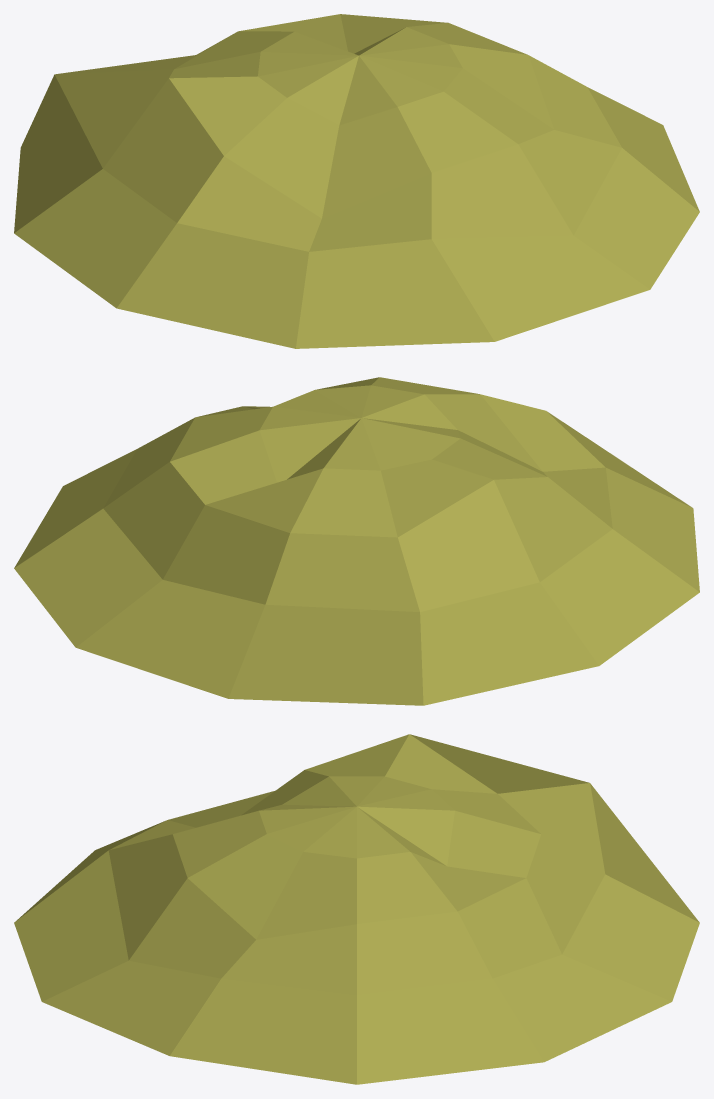
Rendered from SandBump.fbx.
3 views of the same model, one above another, from view 1: azimuth 30°, elevation 25°; view 2: azimuth 150°, elevation 25°; view 3: azimuth 270°, elevation 25° (orthographic). The views are drawn at different scales.
Visible parts, largest first — view 1: pSphere1; view 2: pSphere1; view 3: pSphere1.
Boxes of the visible parts, <box> form: pSphere1: <box>14,14,699,348</box>; pSphere1: <box>14,377,699,705</box>; pSphere1: <box>14,734,699,1084</box>.
Size of the model in its own units: 14.36 by 3.3 by 14.98.
